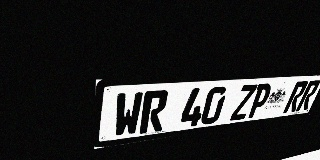0: (199, 86, 228, 125)
4: (179, 87, 209, 128)
P: (246, 83, 274, 119)
R: (139, 90, 169, 134), (283, 81, 309, 113), (295, 80, 320, 111)
W: (113, 91, 144, 138)
Z: (230, 84, 258, 121)
